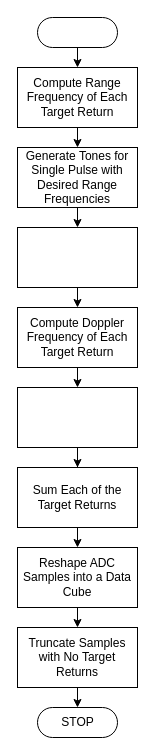
The diagram is 155 pixels wide and 755 high, and some of its shapes have lost their labels. Each missing label, with the centre of its shape:
Apply Doppler Shift to Each Target Return in Train of Pulses: point 77,417
Repeat Received Tones for Every Pulse in CPI: point 77,257
START: point 77,32
